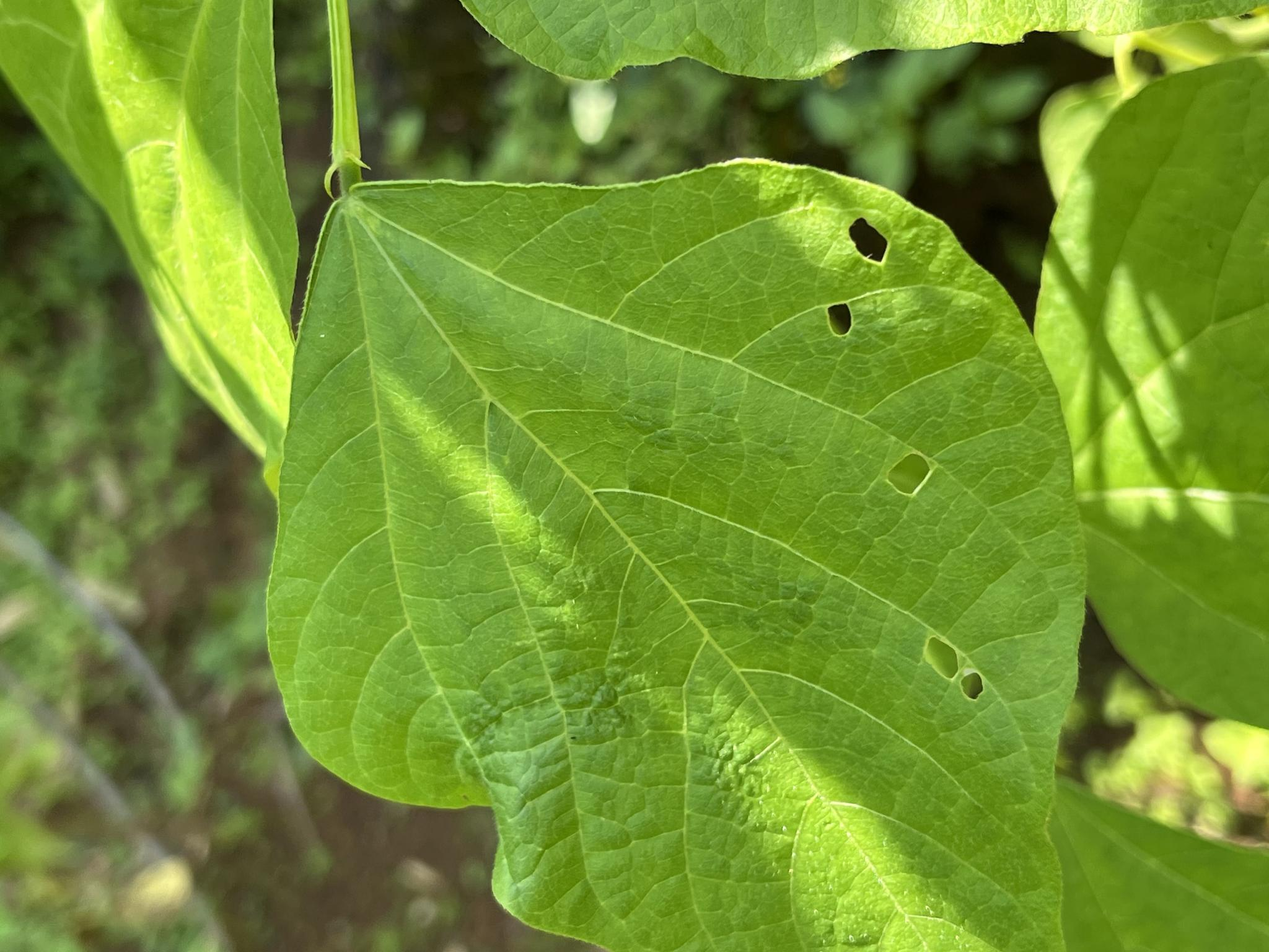mozaik: (883, 448, 942, 501), (812, 297, 873, 346), (839, 212, 896, 264), (917, 631, 965, 686), (963, 665, 1001, 713)
